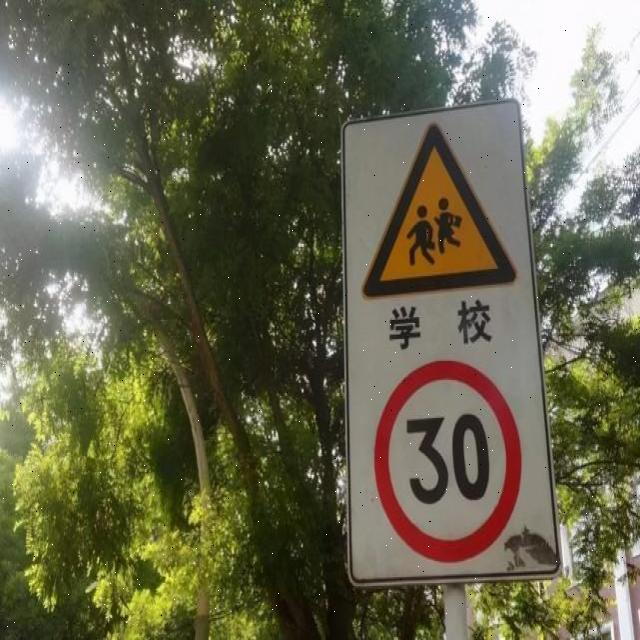speed limit 30: (373, 355, 521, 565)
